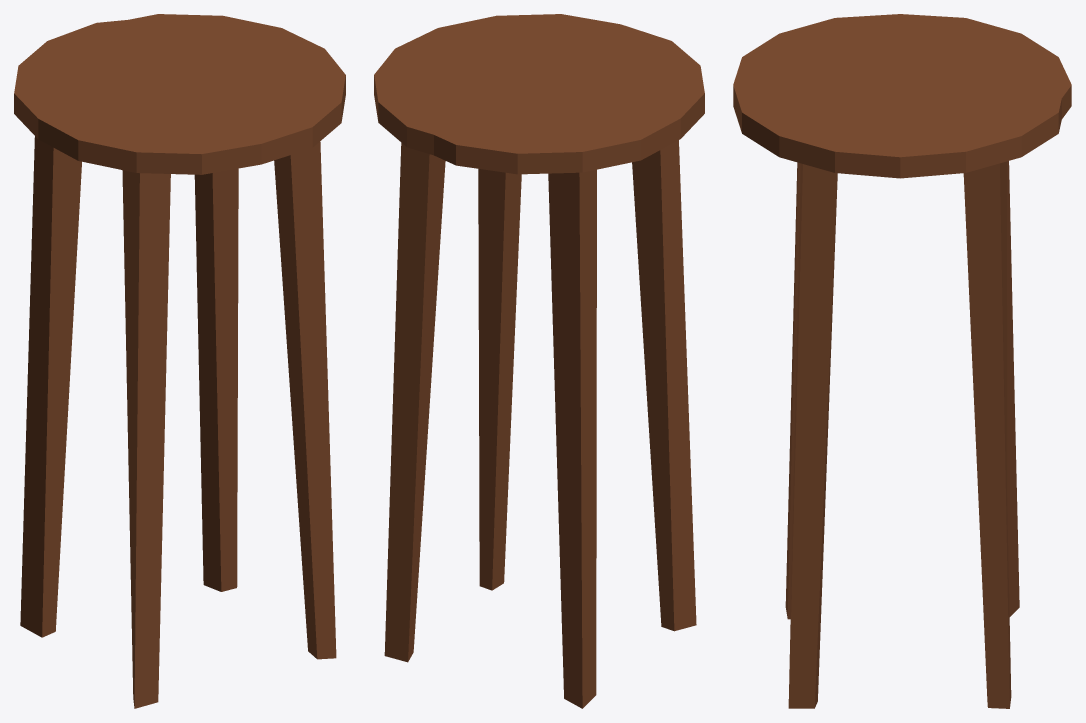
Rendered from chairwoodbarstool01.obj.
The picture shows the model from 3 angles, left to right: view 1: azimuth 30°, elevation 25°; view 2: azimuth 150°, elevation 25°; view 3: azimuth 270°, elevation 25°; orthographic projection. The views are drawn at different scales.
Parts seen in each view (by area): view 1: Cube_Cube.001; view 2: Cube_Cube.001; view 3: Cube_Cube.001.
Part boxes in pixels (x1=…): Cube_Cube.001: x1=14, y1=14, x2=345, y2=708; Cube_Cube.001: x1=374, y1=14, x2=704, y2=708; Cube_Cube.001: x1=733, y1=14, x2=1071, y2=708.
Bounding box in the file's own units: 0.349 × 0.651 × 0.3485.
